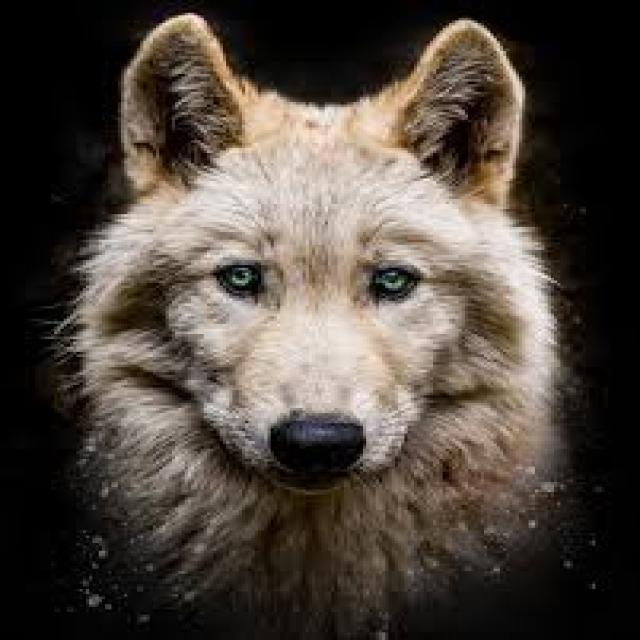Wolf: (48, 10, 586, 638)
